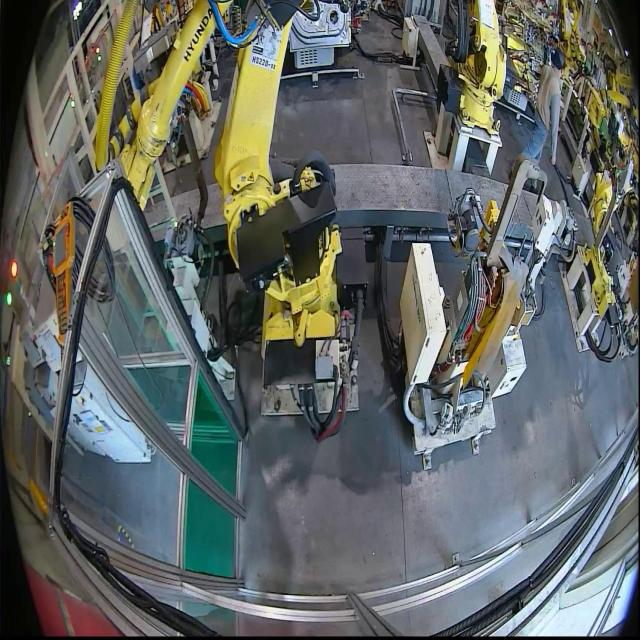Person: (509, 46, 565, 190)
